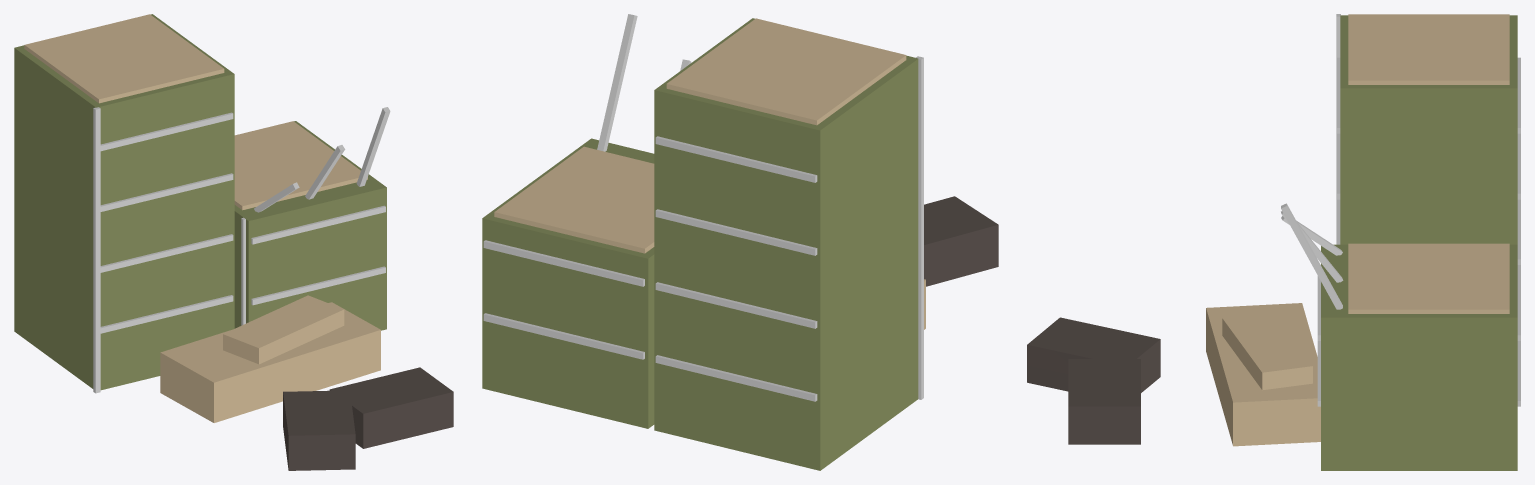
File: SM_HescoCorto2_v0_MallaLimpia_e1_Danado_LOD0.fbx
The picture shows the model from 3 angles, left to right: view 1: azimuth 30°, elevation 25°; view 2: azimuth 150°, elevation 25°; view 3: azimuth 270°, elevation 25°; orthographic projection. The views are drawn at different scales.
Parts seen in each view (by area): view 1: SM_hesco_piezas_v61_LOD0; view 2: SM_hesco_piezas_v61_LOD0; view 3: SM_hesco_piezas_v61_LOD0.
Boxes of the visible parts, x1,y1,x2,y2 form: SM_hesco_piezas_v61_LOD0: [14, 14, 453, 470]; SM_hesco_piezas_v61_LOD0: [482, 14, 998, 470]; SM_hesco_piezas_v61_LOD0: [1027, 14, 1520, 470].
Bounding box in the file's own units: 2.2 × 2.13 × 3.06.
